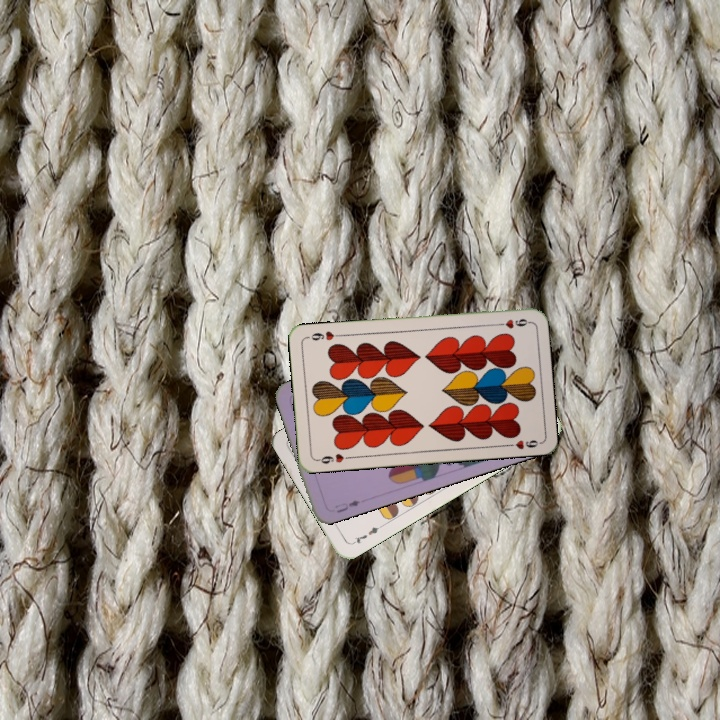E7: (347, 521, 384, 547)
EU: (331, 496, 362, 516)
H9: (491, 314, 532, 331), (313, 449, 353, 466)
